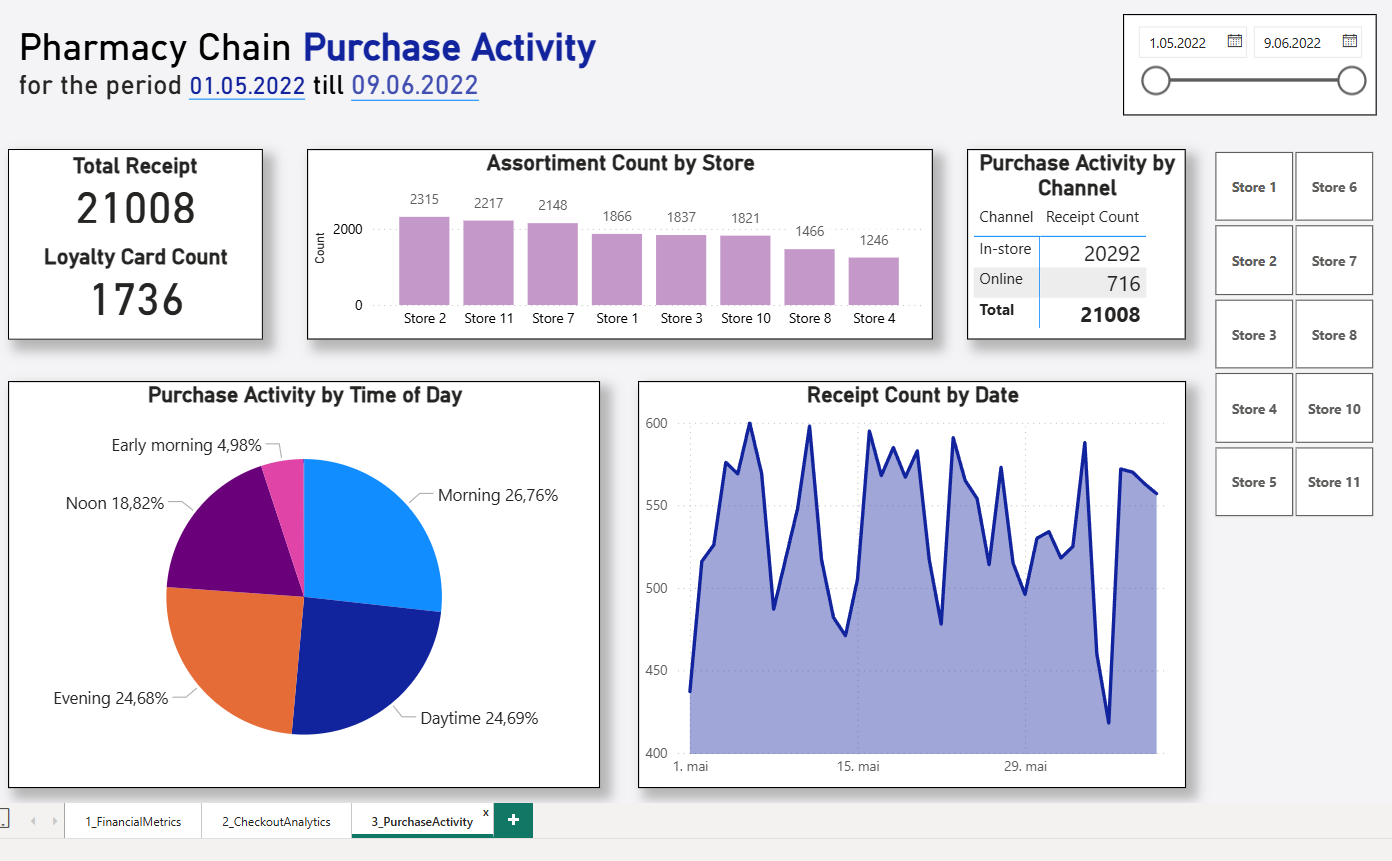

Layout of this report page (visuals, bound fields, positions):
{"tool":"powerbi","page":{"name":"3_PurchaseActivity","canvas":[1280,720],"ordinal":2},"visuals":[{"type":"slicer","fields":{"Values":["public shops.Store Nr"]},"box":[1090,135.7,190,337.1],"z":0},{"type":"shape","box":[45.4,139.9,225.8,169.3],"z":500},{"type":"pieChart","title":"Purchase Activity by Time of Day","fields":{"Category":["public sales.purchase periods"],"Y":["CountNonNull(public sales.ID_receipt)"]},"box":[45.4,346,525.2,360.7],"z":1000},{"type":"card","title":"Total Receipt","fields":{"Values":["Receipt_summary._ReceiptCount"]},"box":[52.8,143.6,209.8,67.5],"z":2000},{"type":"actionButton","box":[0,0,100,40],"z":3000},{"type":"pivotTable","title":"Purchase Activity by Channel","fields":{"Values":["Receipt_summary._ReceiptCount"],"Rows":["Receipt_summary.Order_type"]},"box":[895.7,139.9,193.9,169.3],"z":4000},{"type":"textbox","box":[50,20,653.3,90],"z":5000},{"type":"lineChart","title":"Receipt Count by Date","fields":{"Y":["public sales._Receipt_cnt"],"Category":["Calendar.Date"]},"box":[603.7,346,485.9,360.7],"z":6000},{"type":"card","title":"Loyalty Card Count","fields":{"Values":["public bonuscheques._LoyaltyCard2"]},"box":[52.8,224.5,211,68.7],"z":7000},{"type":"slicer","fields":{"Values":["Calendar.Date"]},"box":[1033.7,20,225.3,90.1],"z":8000},{"type":"lineStackedColumnComboChart","title":"Assortiment Count by Store","fields":{"Category":["public shops.Store Nr"],"Y":["public sales.__Assortiment"]},"box":[310.4,139.9,554.6,169.3],"z":9000}]}

Visuals, with their boxes on the page's 1280x720 design canvas (x1, y1, x2, y2). These are canvas units, not pixel positions in the 1392x861 screenshot, which may show the page scaled, cropped or inside an application window:
slicer - public shops.Store Nr: (1090, 136, 1280, 473)
shape: (45, 140, 271, 309)
"Purchase Activity by Time of Day" pieChart: (45, 346, 571, 707)
"Total Receipt" card: (53, 144, 263, 211)
actionButton: (0, 0, 100, 40)
"Purchase Activity by Channel" pivotTable: (896, 140, 1090, 309)
textbox: (50, 20, 703, 110)
"Receipt Count by Date" lineChart: (604, 346, 1090, 707)
"Loyalty Card Count" card: (53, 224, 264, 293)
slicer - Calendar.Date: (1034, 20, 1259, 110)
"Assortiment Count by Store" lineStackedColumnComboChart: (310, 140, 865, 309)
